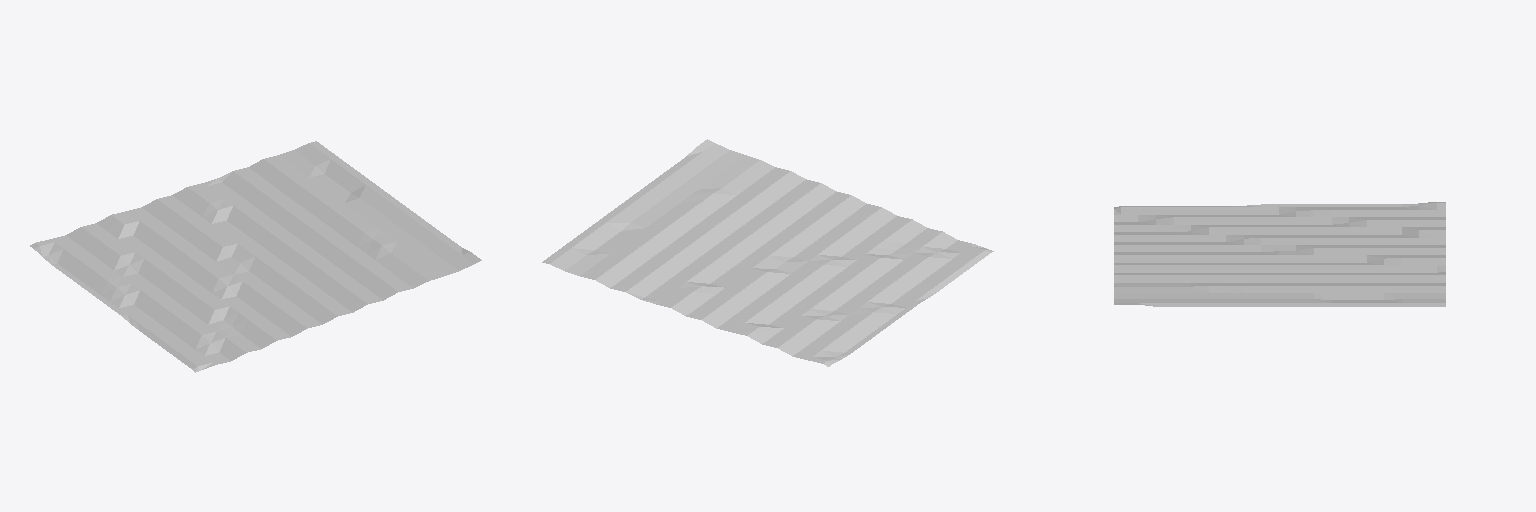
The model's file is terrain_4_-5.obj.
3 renders of one model, left to right at view 1: azimuth 30°, elevation 25°; view 2: azimuth 150°, elevation 25°; view 3: azimuth 270°, elevation 25°, orthographic.
Visible parts, largest first — view 1: terrain_4_-5_Plane.048; view 2: terrain_4_-5_Plane.048; view 3: terrain_4_-5_Plane.048.
Part boxes in pixels (bbox=[...]): terrain_4_-5_Plane.048: bbox=[30, 141, 481, 372]; terrain_4_-5_Plane.048: bbox=[542, 139, 993, 366]; terrain_4_-5_Plane.048: bbox=[1114, 202, 1445, 306].
Size of the model in its own units: 32 by 4.54 by 32.